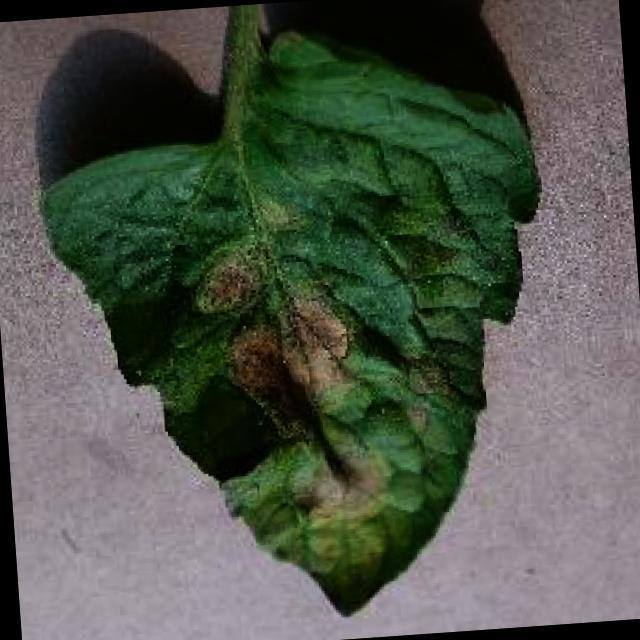Tomato late blight leaf: (22, 7, 576, 638)
